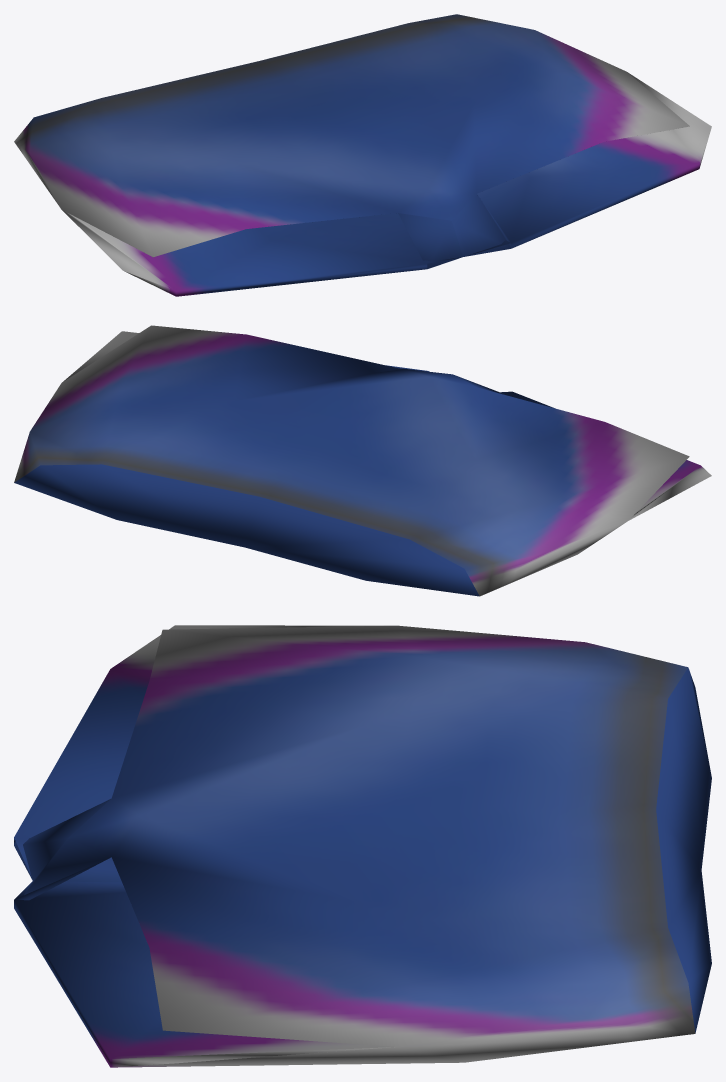
File: PAN_Ground.fbx
3 renders of one model, top to bottom at view 1: azimuth 30°, elevation 25°; view 2: azimuth 150°, elevation 25°; view 3: azimuth 270°, elevation 25°, orthographic. The views are drawn at different scales.
Parts seen in each view (by area): view 1: Body.013; view 2: Body.013; view 3: Body.013.
Boxes of the visible parts, x1=… form: Body.013: x1=14, y1=14, x2=711, y2=296; Body.013: x1=14, y1=325, x2=711, y2=596; Body.013: x1=14, y1=625, x2=711, y2=1067.
Bounding box in the file's own units: 0.2069 × 0.0165 × 0.139.
